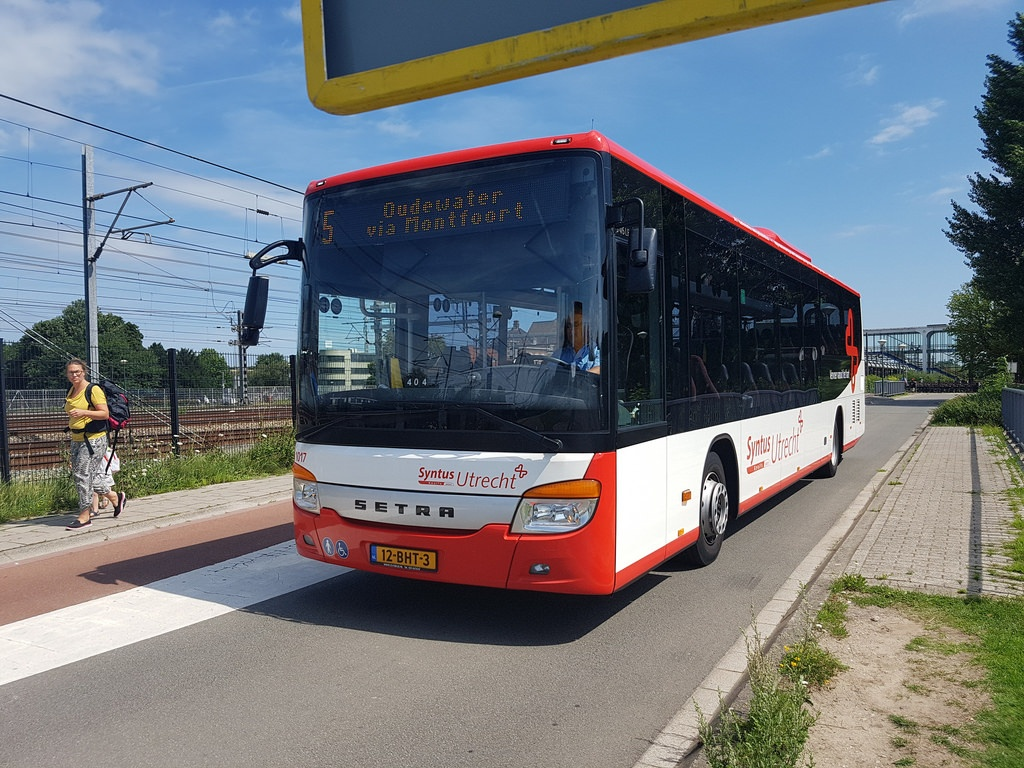bus: (231, 127, 864, 604)
